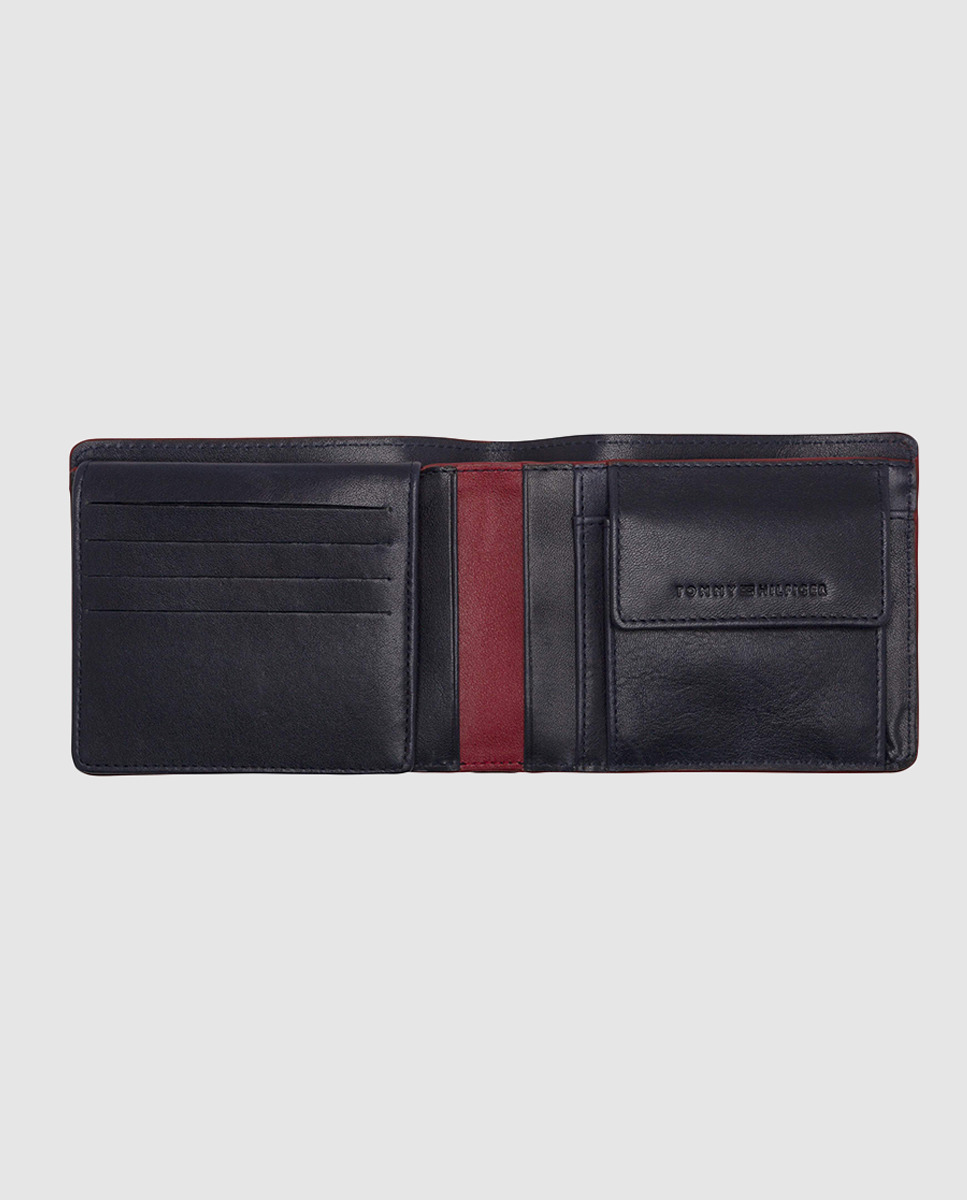monedero: (68, 430, 922, 776)
